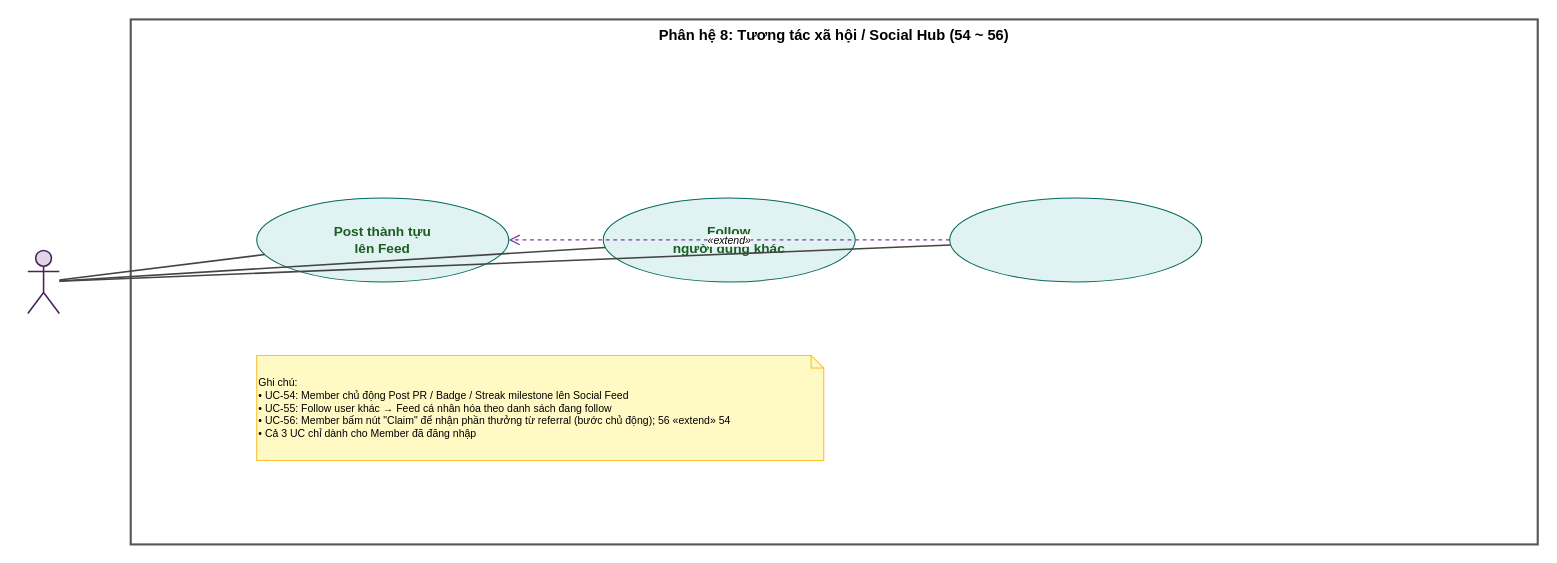
This 1557x563 diagram has some shape labels left out. The box of each missing label's shape, as (x1, y1, x2, y2) in pixels:
MEMBER: (27, 249, 60, 314)
Nhận phần thưởng giới thiệu (Claim Referral): (949, 197, 1202, 282)
